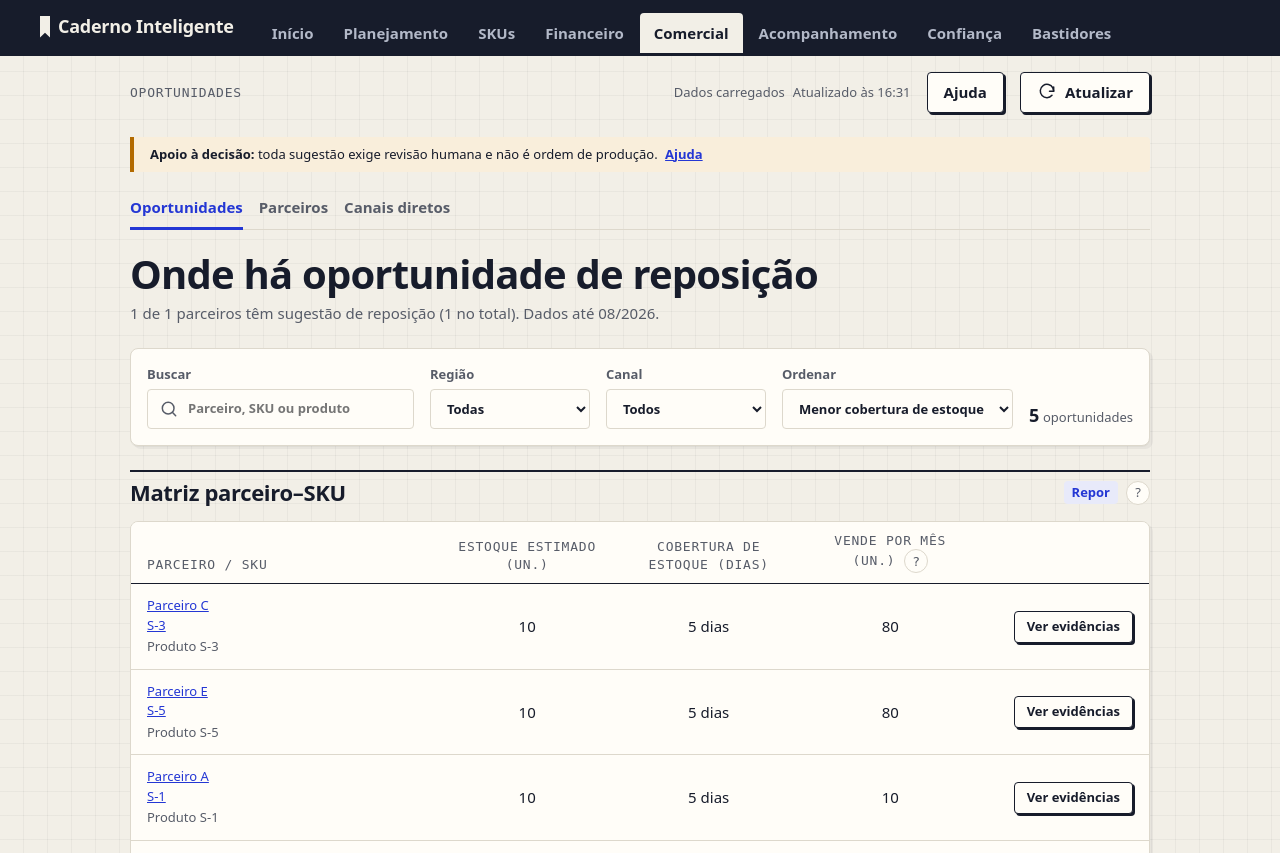
Scenario: oportunidades: linhas › rótulo igual em todas as linhas aparece uma vez, e a evidência de cada linha continua acessível
This screenshot has width=1280, height=853.
Expected: the text "Repor" is shown once, top-left (1064, 482), bottom-right (1118, 504)
Click the button with aria-label "Evidências de" at (1073, 627), box top-left (1014, 611), bottom-right (1133, 643)
(page scrolled)
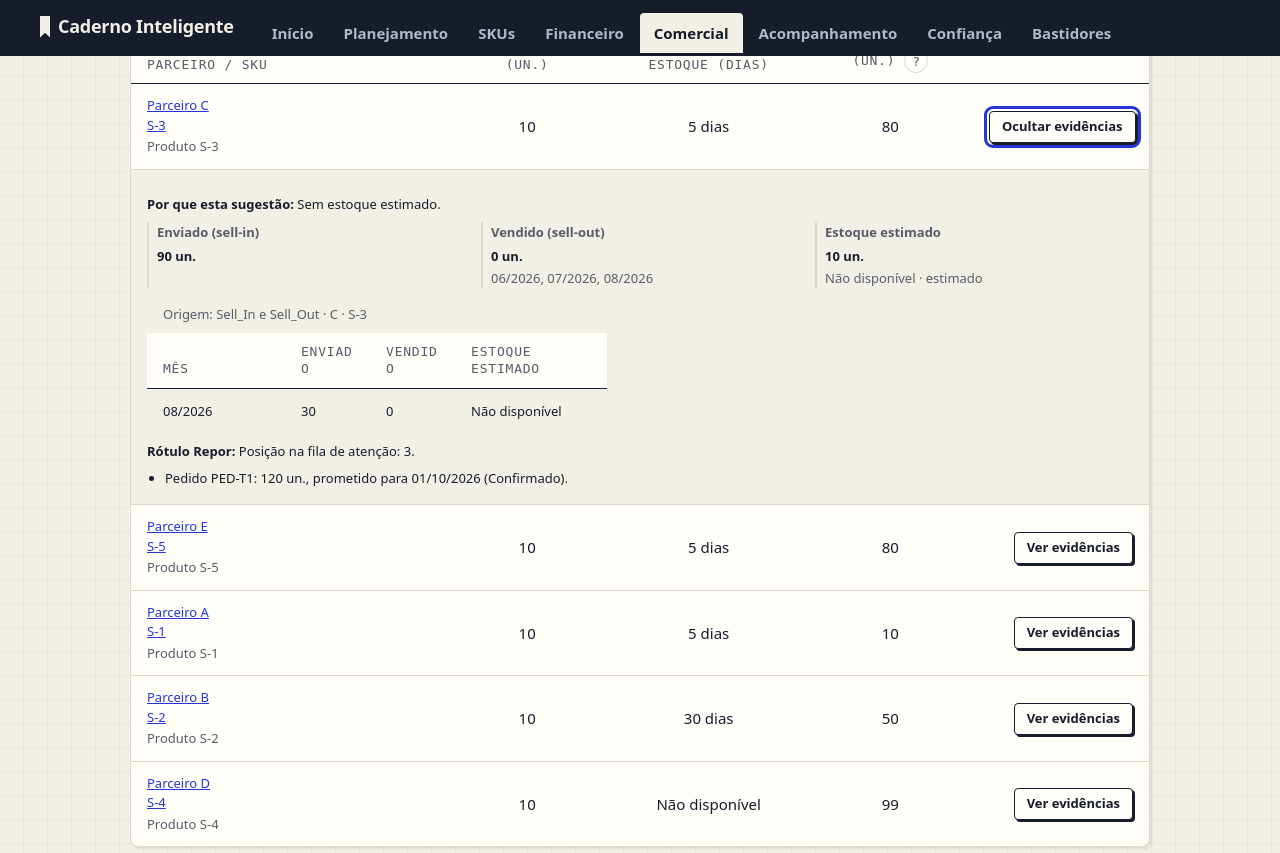
Now the text "Rótulo Repor:" is shown, box top-left (147, 442), bottom-right (235, 460)
